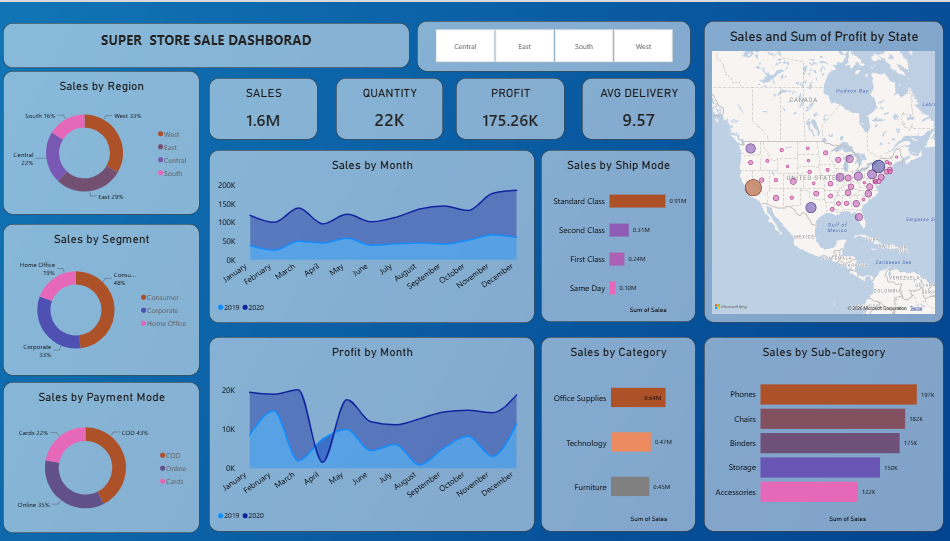

The dashboard page shown, as its layout file describes it:
{"tool":"powerbi","page":{"name":"Page 1","canvas":[1920,1080],"ordinal":0},"visuals":[{"type":"clusteredBarChart","title":"Sales by Category","fields":{"Category":["SuperStore_Sales_Dataset.Category"],"Y":["Sum(SuperStore_Sales_Dataset.Sales)"]},"box":[1088.6,670,308.6,388.6],"z":0},{"type":"clusteredBarChart","title":"Sales by Sub-Category","fields":{"Category":["SuperStore_Sales_Dataset.Sub-Category"],"Y":["Sum(SuperStore_Sales_Dataset.Sales)"]},"box":[1414.3,670,478.6,388.6],"z":1000},{"type":"stackedAreaChart","title":"Sales by Month","fields":{"Category":["SuperStore_Sales_Dataset.Order Date.Variation.Date Hierarchy.Month","SuperStore_Sales_Dataset.Order Date.Variation.Date Hierarchy.Day"],"Series":["SuperStore_Sales_Dataset.Order Date.Variation.Date Hierarchy.Year"],"Y":["Sum(SuperStore_Sales_Dataset.Sales)"]},"box":[424.3,295.7,651.4,345.7],"z":2000},{"type":"stackedAreaChart","title":"Profit by Month","fields":{"Category":["SuperStore_Sales_Dataset.Order Date.Variation.Date Hierarchy.Month","SuperStore_Sales_Dataset.Order Date.Variation.Date Hierarchy.Day"],"Series":["SuperStore_Sales_Dataset.Order Date.Variation.Date Hierarchy.Year"],"Y":["Sum(SuperStore_Sales_Dataset.Profit)"]},"box":[424.3,670,651.4,388.6],"z":3000},{"type":"map","title":"Sales and Sum of Profit by State","fields":{"Category":["SuperStore_Sales_Dataset.State"],"Size":["Sum(SuperStore_Sales_Dataset.Sales)"]},"box":[1414.3,37.1,478.6,602.9],"z":4000},{"type":"donutChart","title":" Sales by Segment","fields":{"Category":["SuperStore_Sales_Dataset.Segment"],"Y":["Sum(SuperStore_Sales_Dataset.Sales)"]},"box":[11.4,444.3,392.9,302.9],"z":5000},{"type":"donutChart","title":"Sales by Payment Mode","fields":{"Category":["SuperStore_Sales_Dataset.Payment Mode"],"Y":["Sum(SuperStore_Sales_Dataset.Sales)"]},"box":[11.4,760,392.9,302],"z":6000},{"type":"slicer","fields":{"Values":["SuperStore_Sales_Dataset.Region"]},"box":[840,37.1,547.1,101.4],"z":7000},{"type":"textbox","box":[11.4,42.9,812.9,90],"z":8000},{"type":"cardVisual","title":"SALES","fields":{"Data":["Sum(SuperStore_Sales_Dataset.Sales)"]},"box":[424.3,151.4,217.1,122.9],"z":9000},{"type":"cardVisual","title":"QUANTITY","fields":{"Data":["Sum(SuperStore_Sales_Dataset.Quantity)"]},"box":[677.1,151.4,214.3,122.9],"z":10000},{"type":"cardVisual","title":"PROFIT","fields":{"Data":["Sum(SuperStore_Sales_Dataset.Profit)"]},"box":[918.6,151.4,217.1,122.9],"z":10001},{"type":"cardVisual","title":"AVG DELIVERY","fields":{"Data":["Avg(SuperStore_Sales_Dataset.AvgDelivery)"]},"box":[1170,151.4,227.1,122.9],"z":10002},{"type":"clusteredBarChart","title":"Sales by Ship Mode","fields":{"Category":["SuperStore_Sales_Dataset.Ship Mode"],"Y":["Sum(SuperStore_Sales_Dataset.Sales)"]},"box":[1088.6,295.7,308.6,344.3],"z":10003},{"type":"donutChart","title":"Sales by Region","fields":{"Category":["SuperStore_Sales_Dataset.Region"],"Y":["Sum(SuperStore_Sales_Dataset.Sales)"]},"box":[11.4,138.6,392.9,287.1],"z":10004}]}

Visuals, with their boxes in screenshot pixels (x1, y1, x2, y2), scaled from the page's 1920x1080 canvas onto the 950x541 screenshot:
"Sales by Category" clusteredBarChart: BBox(539, 336, 691, 530)
"Sales by Sub-Category" clusteredBarChart: BBox(700, 336, 937, 530)
"Sales by Month" stackedAreaChart: BBox(210, 148, 532, 321)
"Profit by Month" stackedAreaChart: BBox(210, 336, 532, 530)
"Sales and Sum of Profit by State" map: BBox(700, 19, 937, 321)
" Sales by Segment" donutChart: BBox(6, 223, 200, 374)
"Sales by Payment Mode" donutChart: BBox(6, 381, 200, 532)
slicer - SuperStore_Sales_Dataset.Region: BBox(416, 19, 686, 69)
textbox: BBox(6, 21, 408, 67)
"SALES" cardVisual: BBox(210, 76, 317, 137)
"QUANTITY" cardVisual: BBox(335, 76, 441, 137)
"PROFIT" cardVisual: BBox(455, 76, 562, 137)
"AVG DELIVERY" cardVisual: BBox(579, 76, 691, 137)
"Sales by Ship Mode" clusteredBarChart: BBox(539, 148, 691, 321)
"Sales by Region" donutChart: BBox(6, 69, 200, 213)
